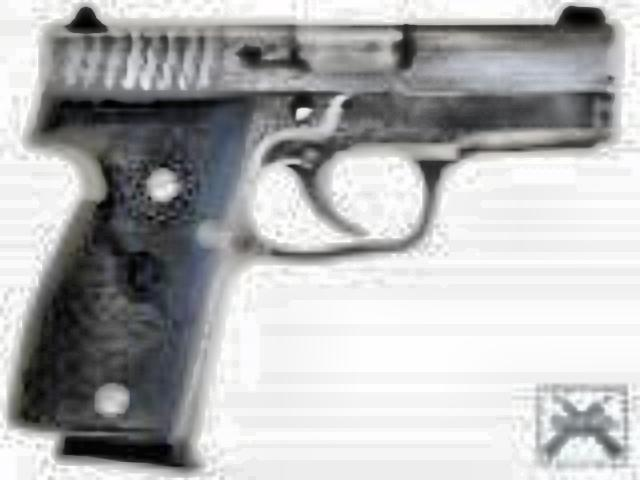pistol: (0, 0, 604, 460)
